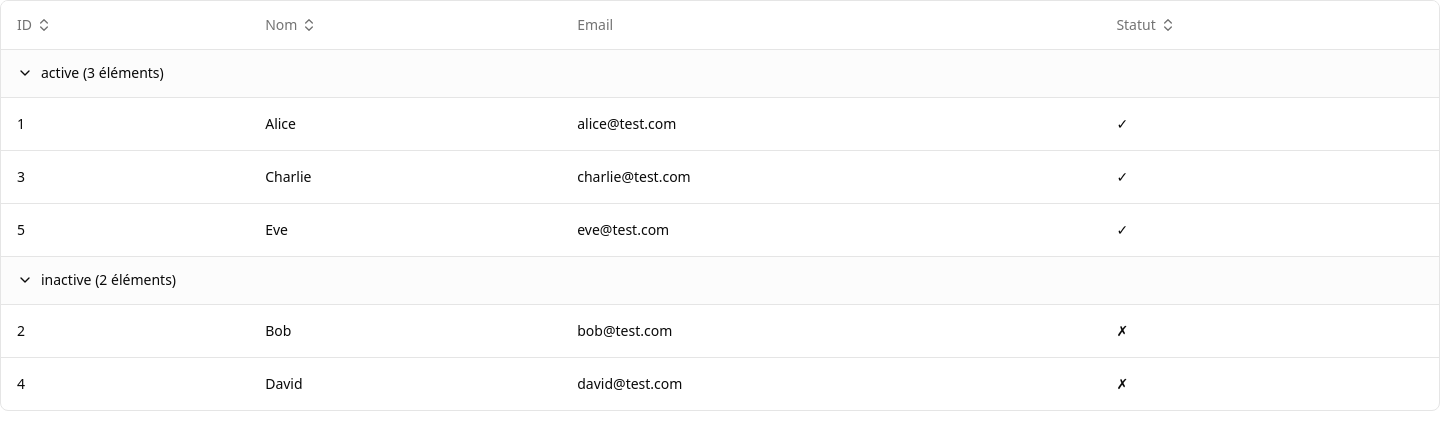
it: DataTable - Grouping Functionality › Accordion mode › behaves normally when accordion is false
This screenshot has width=1440, height=428.
Expected: the text "inactive (2 éléments)" is shown, [41,270,176,290]
Expected: the text "Alice" is shown, [249,97,561,150]
# Fermer le premier groupe
What coordinates should you click on to do the following:
click the text "active (3 éléments)"
I would click on:
 (102, 73)
Its box is [41,63,164,83].
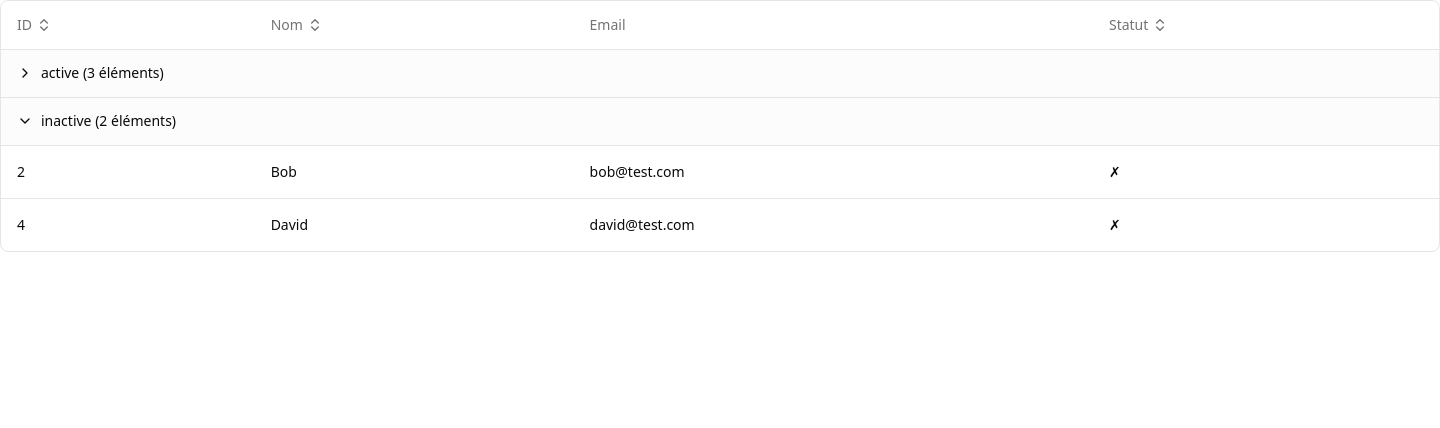
Expected: the text "Bob" is shown, [255,145,574,198]
Expected: the text "Alice" is gone
